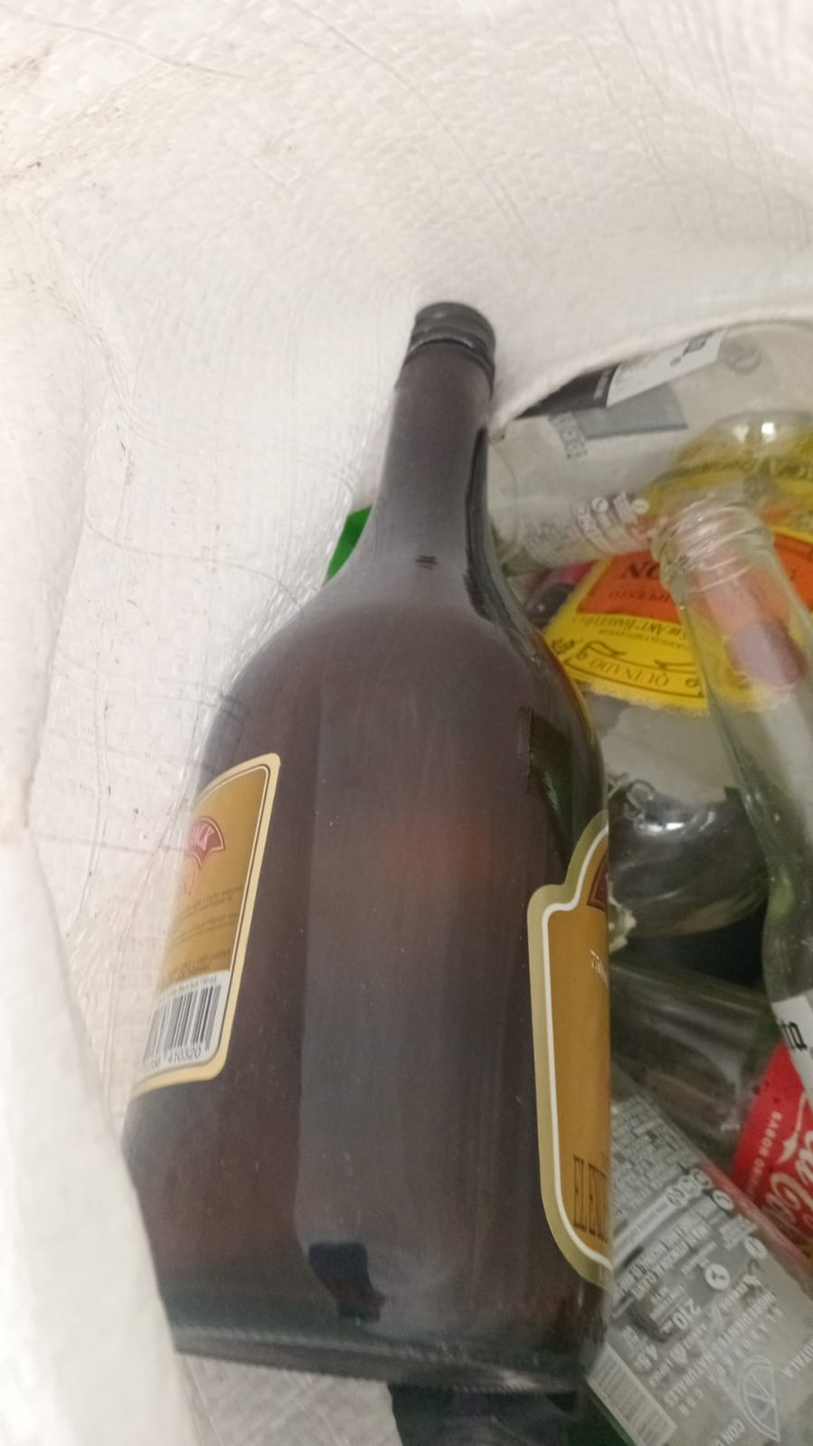Vidrio: (121, 300, 599, 1377), (662, 502, 813, 1089)
